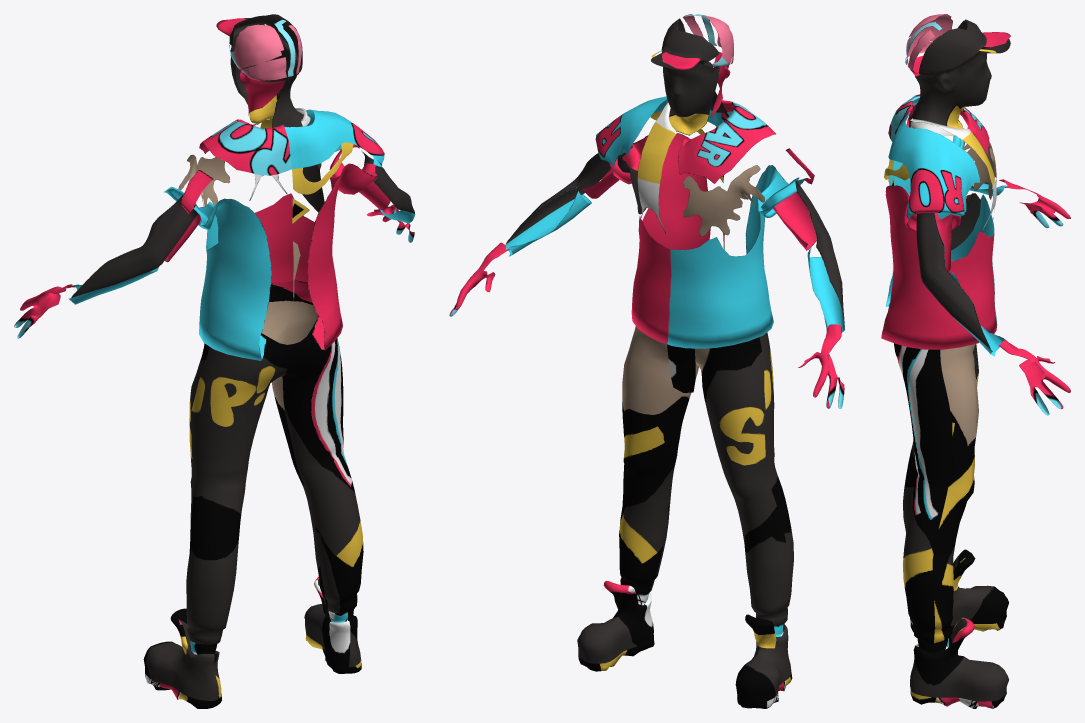
File: outfit_1_meshes.fbx
The picture shows the model from 3 angles, left to right: view 1: azimuth 30°, elevation 25°; view 2: azimuth 150°, elevation 25°; view 3: azimuth 270°, elevation 25°; orthographic projection. The views are drawn at different scales.
Parts seen in each view (by area): view 1: Outfit_1_Bottom, Outfit_1_Top, Outfit_1_Misc; view 2: Outfit_1_Top, Outfit_1_Bottom, Outfit_1_Misc; view 3: Outfit_1_Top, Outfit_1_Bottom, Outfit_1_Misc.
Part boxes in pixels (x1,y1,x2,y2): Outfit_1_Bottom: (143, 280, 363, 708); Outfit_1_Top: (14, 108, 415, 360); Outfit_1_Misc: (216, 14, 303, 127); Outfit_1_Top: (449, 96, 844, 408); Outfit_1_Bottom: (577, 326, 793, 708); Outfit_1_Misc: (651, 14, 733, 135); Outfit_1_Top: (881, 94, 1070, 415); Outfit_1_Bottom: (894, 343, 1008, 708); Outfit_1_Misc: (905, 14, 1010, 128).
Size of the model in its own units: 1105 by 1762 by 474.
